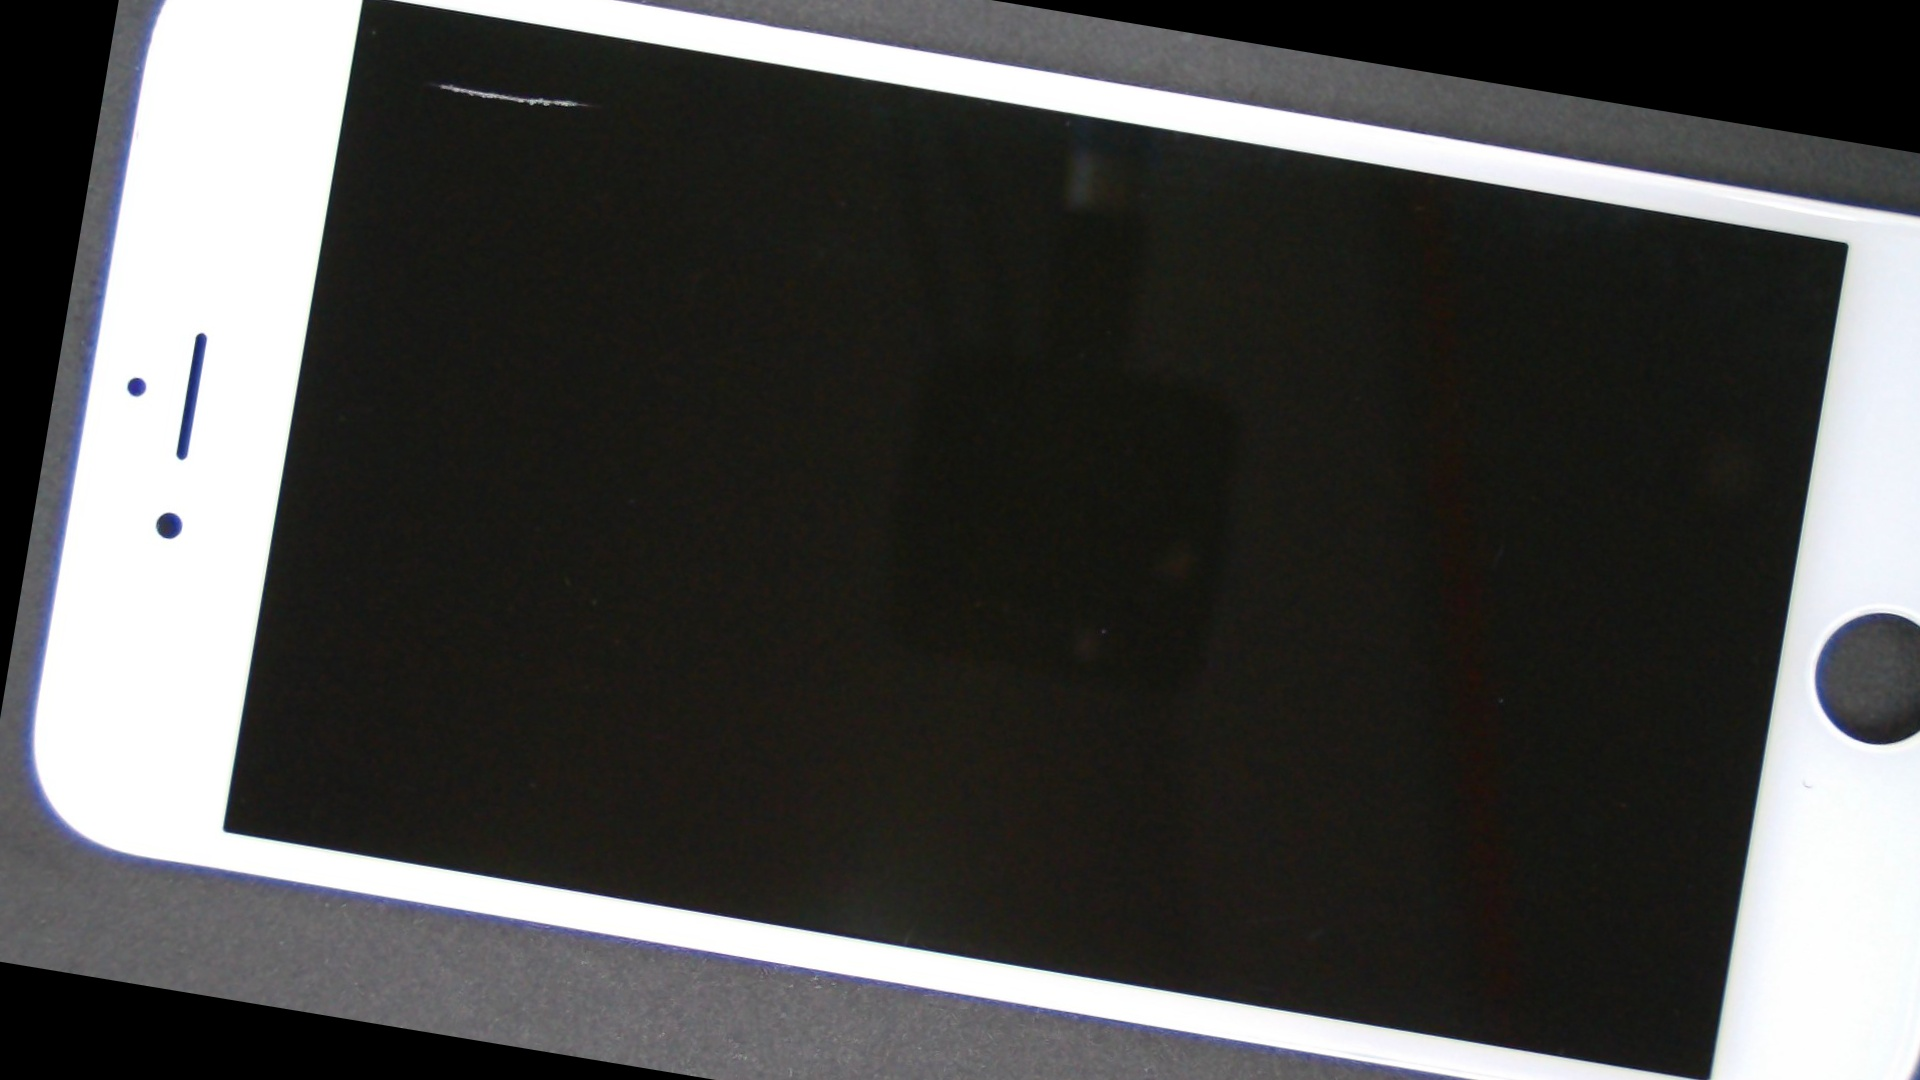oil: (330, 0, 814, 222)
